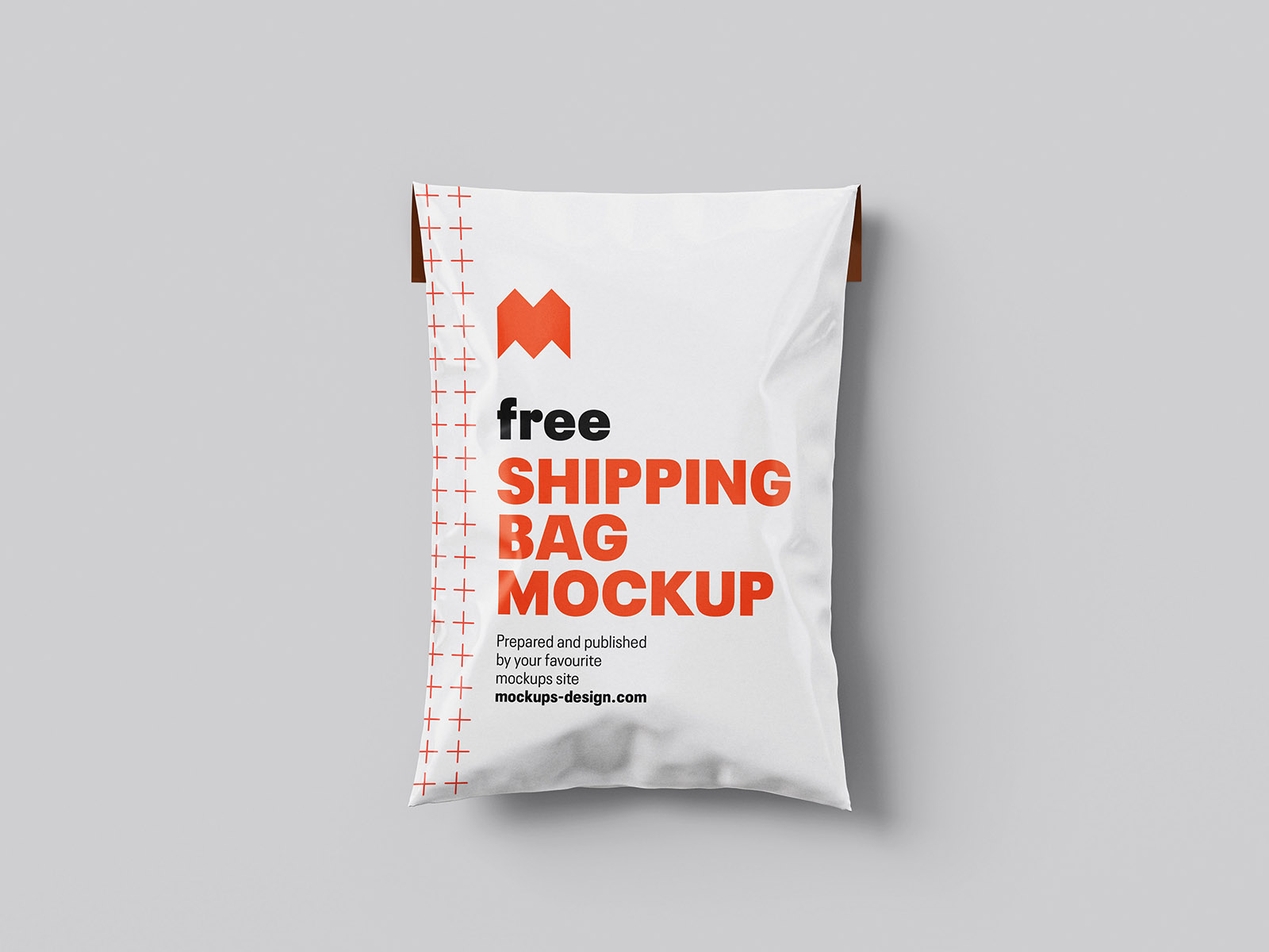塑料袋: (409, 184, 860, 806)
